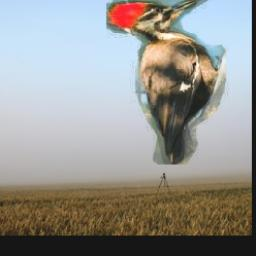Woodpecker: (107, 0, 230, 165)
